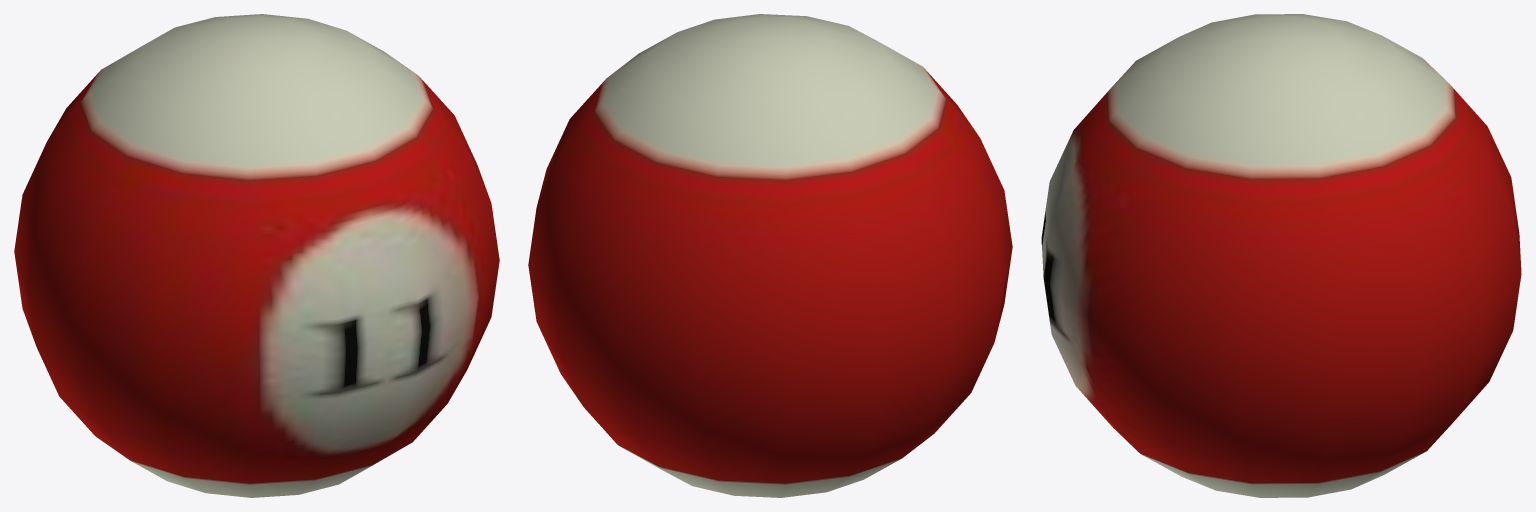
3 renders of one model, left to right at view 1: azimuth 30°, elevation 25°; view 2: azimuth 150°, elevation 25°; view 3: azimuth 270°, elevation 25°, orthographic.
Parts seen in each view (by area): view 1: bi_a_11; view 2: bi_a_11; view 3: bi_a_11.
Boxes of the visible parts, x1,y1,x2,y2 form: bi_a_11: (14, 14, 499, 497); bi_a_11: (528, 14, 1012, 497); bi_a_11: (1041, 14, 1521, 497).
Bounding box in the file's own units: 12.94 × 13.13 × 12.94.
